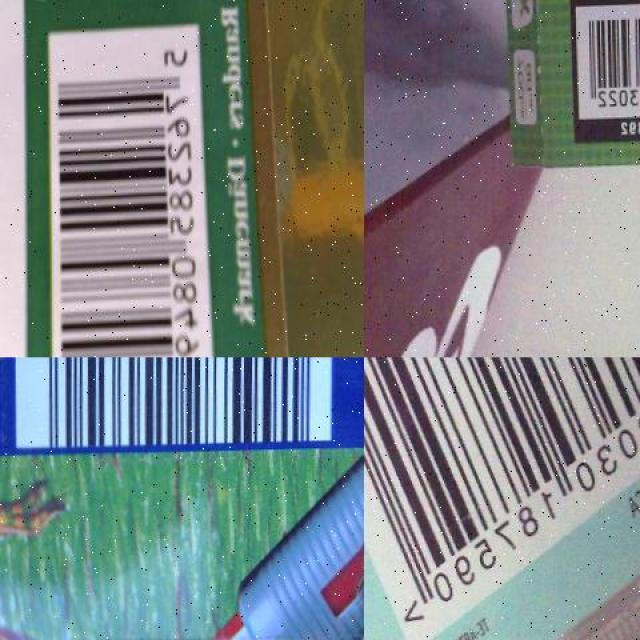Barcode: (364, 357, 640, 640), (45, 20, 216, 357), (6, 357, 338, 460), (569, 0, 640, 144)
